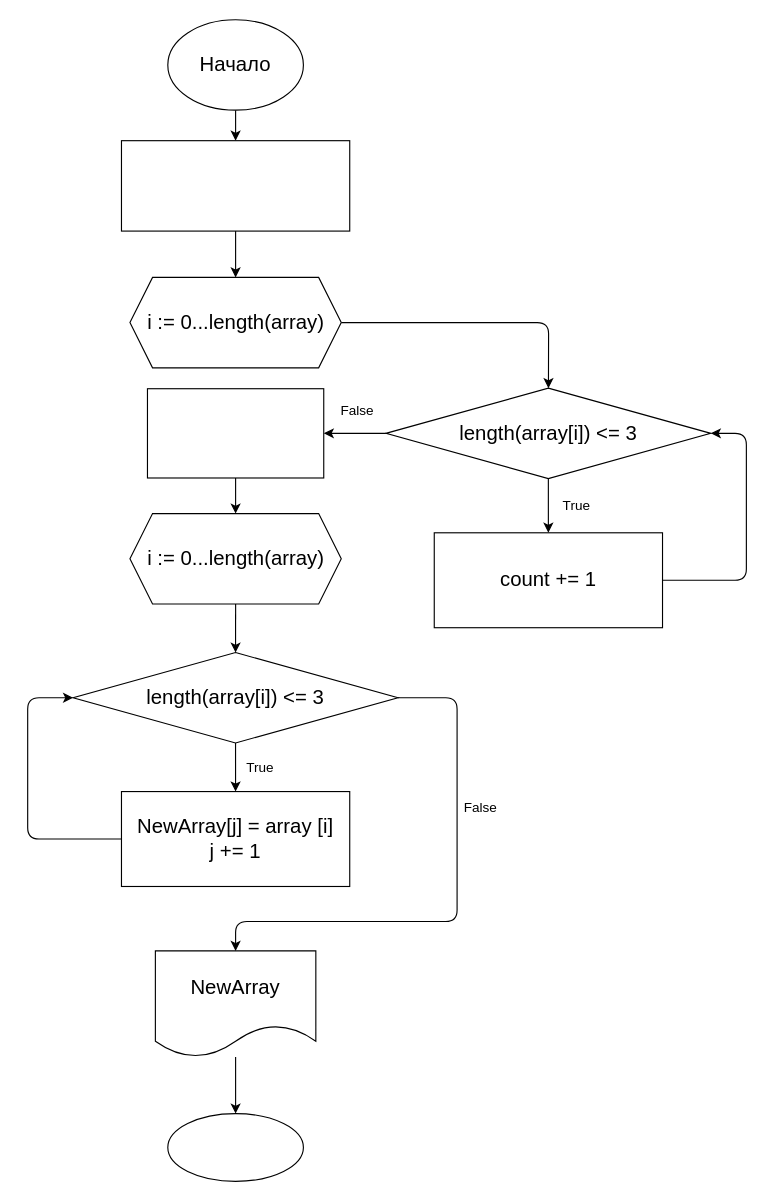
Some shapes in this 775 by 1201 pixel diagram are drawn without their labels. The centre of each missing label's shape, as x and y in pixels:
"array, count = 0" belongs at point (235, 185).
"NewArray, j = 0" belongs at point (235, 433).
"Конец" belongs at point (235, 1146).
